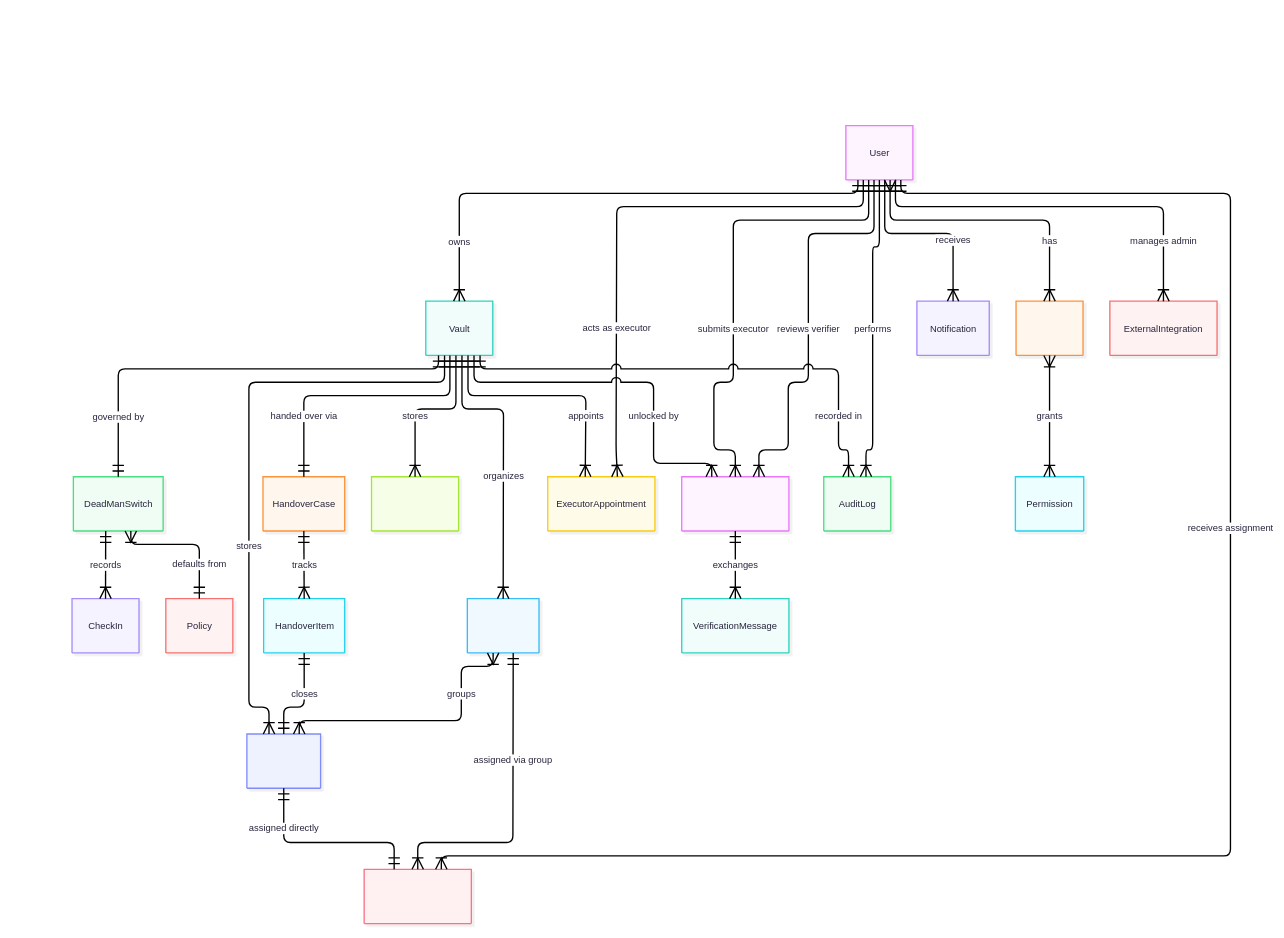
Image size: 1284x938. Some labels were removed from this diagram. The shapes that lost their labels are listed below. From the top down, each one's centre as x and y in pixels, then its label:
(1050,329): Role
(416,505): LegalDocument
(736,505): LegalVerificationRequest
(504,627): AssetGroup
(285,762): DigitalAsset
(418,897): BeneficiaryAssignment
